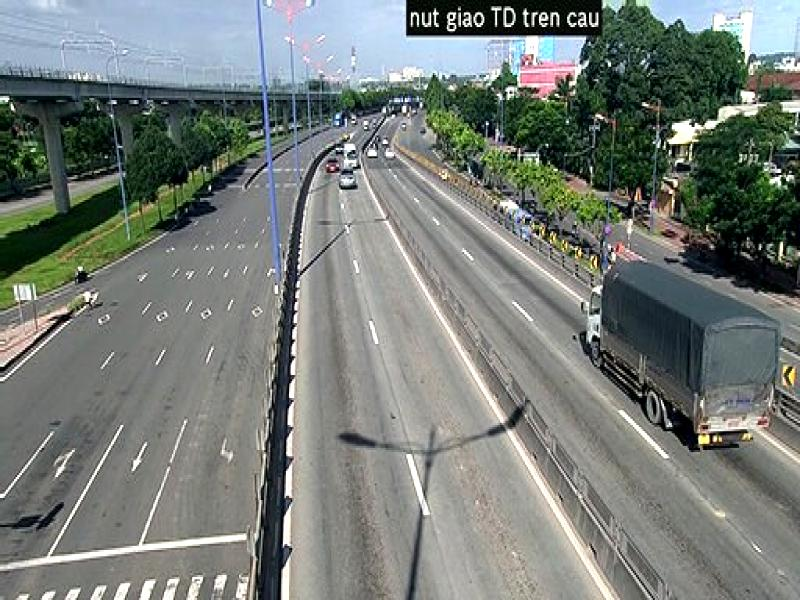truck: (581, 261, 778, 448)
